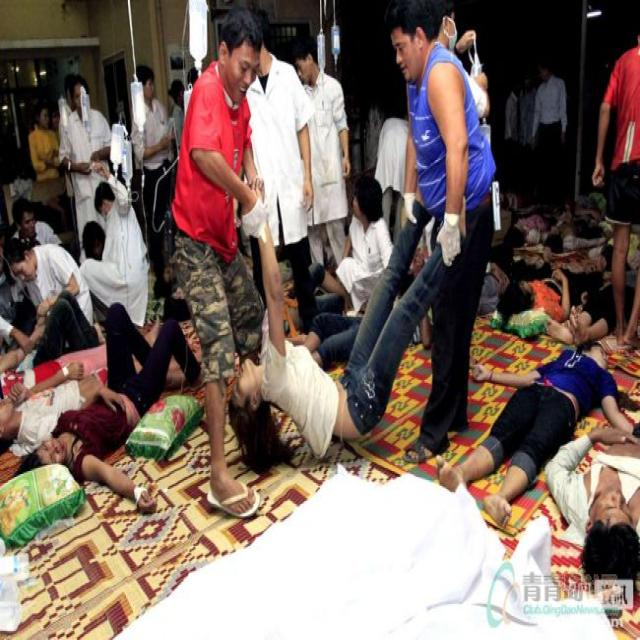10-: (4, 570, 608, 638)
down: (222, 232, 429, 471), (18, 302, 206, 513), (450, 323, 638, 534), (534, 416, 639, 582), (500, 265, 621, 338), (0, 363, 99, 448), (0, 293, 95, 369), (300, 294, 356, 360), (544, 224, 608, 263), (467, 259, 507, 305), (512, 212, 552, 252), (565, 190, 608, 217), (155, 262, 176, 292), (167, 290, 183, 319)
